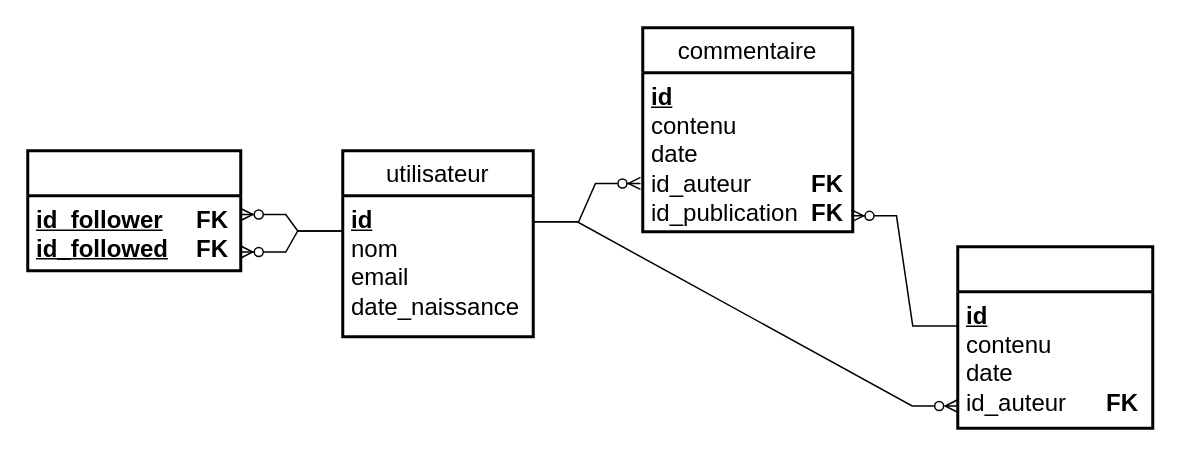
The diagram is 1179 pixels wide and 455 high, and some of its shapes have lost their labels. Each missing label, with the box of its shape:
abonnement: (26, 148, 242, 272)
publication: (956, 244, 1154, 429)
